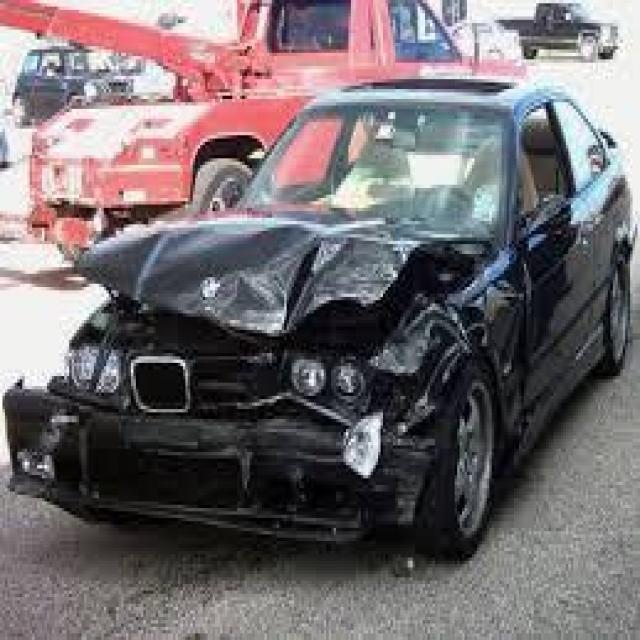damaged: (5, 224, 442, 551), (435, 234, 529, 373)
